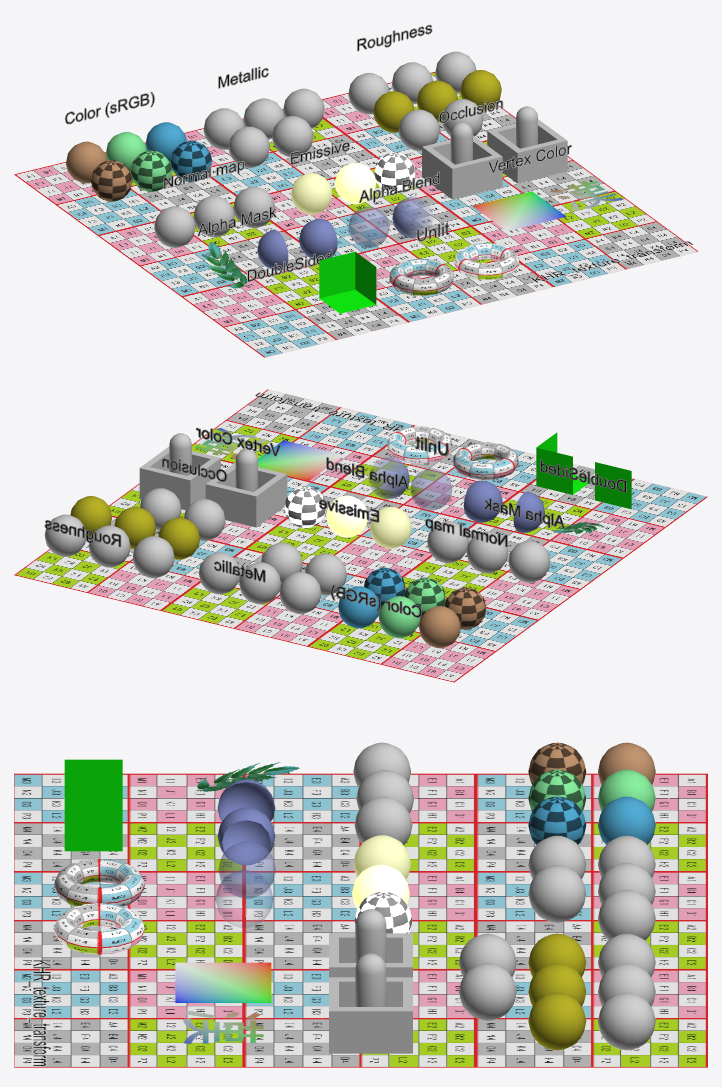
File: gltfTest_PBRMaterial.gltf
The picture shows the model from 3 angles, top to bottom: view 1: azimuth 30°, elevation 25°; view 2: azimuth 150°, elevation 25°; view 3: azimuth 270°, elevation 25°; orthographic projection. The views are drawn at different scales.
Parts seen in each view (by area): view 1: ground, ground.001, Occlusion.001, Occlusion.002, ポリゴンメッシュ.003, ポリゴンメッシュ, torus.001, torus, sphere_tex, sphere_tex.007, sphere.012, sphere.014 (+36 smaller); view 2: ground, ground.001, Occlusion.001, Occlusion.002, ポリゴンメッシュ, torus, torus.001, ポリゴンメッシュ.003, sphere.006, sphere_tex.007, sphere.003, sphere (+38 smaller); view 3: ground, ground.001, Occlusion.002, ポリゴンメッシュ, Occlusion.001, torus.001, torus, ポリゴンメッシュ.003, sphere.011, sphere_tex.004, sphere.008, sphere_tex.012 (+29 smaller).
Part boxes in pixels (x1,y1,x2,y2): ground: [14, 71, 615, 296]; ground.001: [181, 191, 698, 357]; Occlusion.001: [422, 122, 502, 199]; Occlusion.002: [487, 106, 567, 183]; ポリゴンメッシュ.003: [319, 251, 376, 313]; ポリゴンメッシュ: [472, 191, 565, 230]; torus.001: [454, 243, 519, 279]; torus: [389, 259, 453, 295]; sphere_tex: [91, 160, 132, 201]; sphere_tex.007: [154, 206, 195, 247]; sphere.012: [291, 173, 332, 214]; sphere.014: [348, 206, 389, 248]; ground: [14, 460, 623, 682]; ground.001: [192, 389, 707, 558]; Occlusion.001: [205, 449, 287, 527]; Occlusion.002: [139, 433, 220, 510]; ポリゴンメッシュ: [257, 440, 343, 480]; torus: [453, 442, 518, 479]; torus.001: [387, 426, 452, 463]; ポリゴンメッシュ.003: [536, 432, 593, 494]; sphere.006: [132, 536, 174, 578]; sphere_tex.007: [508, 540, 550, 582]; sphere.003: [279, 572, 321, 614]; sphere: [419, 606, 460, 648]; ground: [244, 773, 707, 1067]; ground.001: [14, 773, 244, 1067]; Occlusion.002: [329, 953, 412, 1053]; ポリゴンメッシュ: [175, 962, 271, 1002]; Occlusion.001: [329, 909, 412, 977]; torus.001: [54, 903, 144, 954]; torus: [54, 859, 144, 906]; ポリゴンメッシュ.003: [64, 799, 122, 851]; sphere.011: [528, 992, 586, 1050]; sphere_tex.004: [528, 865, 586, 922]; sphere.008: [598, 992, 655, 1050]; sphere_tex.012: [217, 807, 275, 865].
Size of the model in its own units: 0.6158 by 0.0859 by 0.5988.
Materials: 40 (12 with a texture image).
